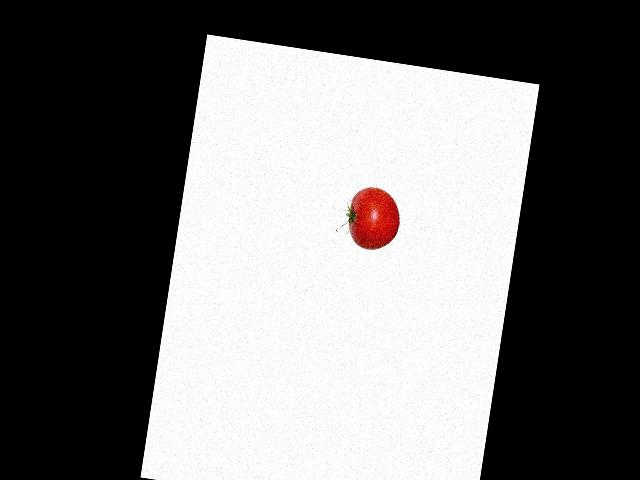tomato: (344, 184, 403, 252)
